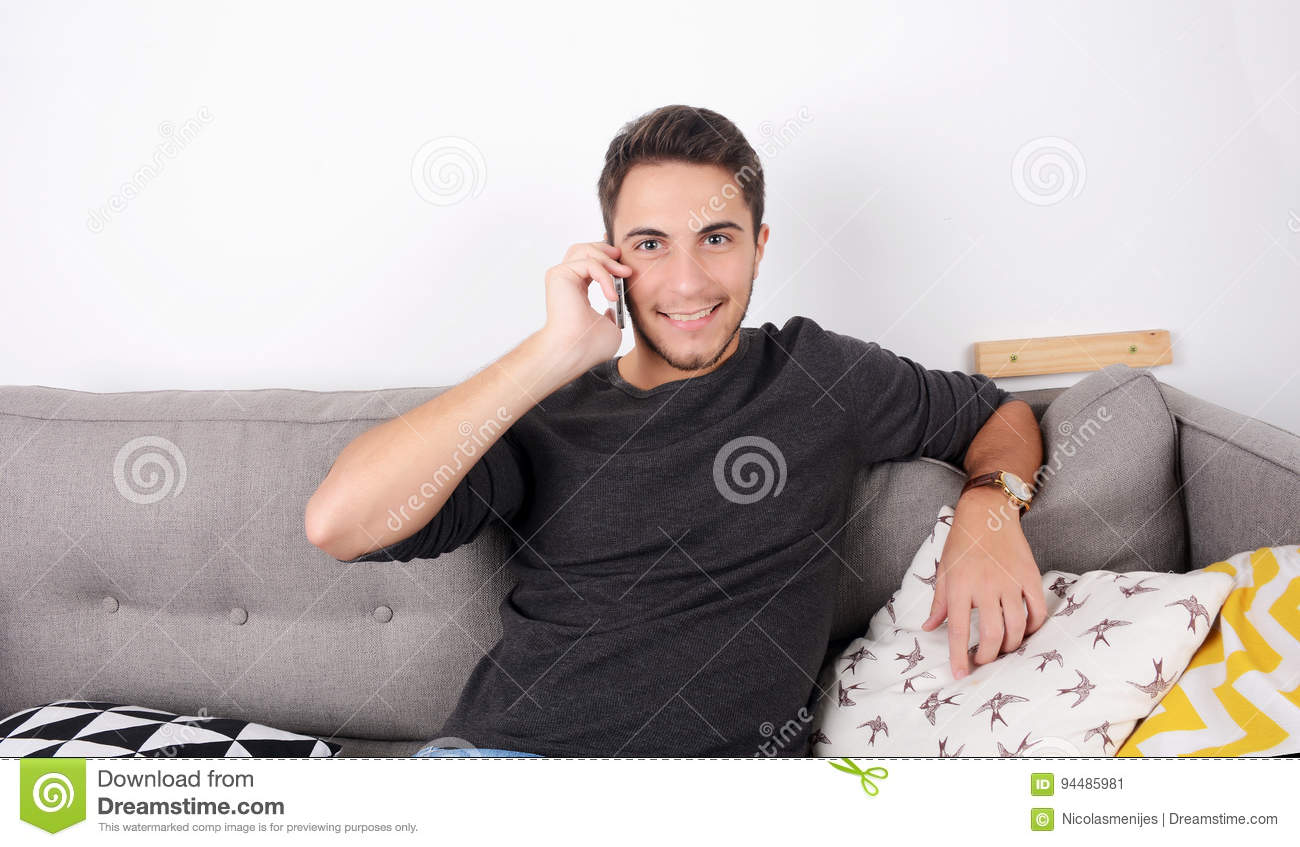phone: (611, 250, 630, 344)
talk: (543, 212, 750, 388)
